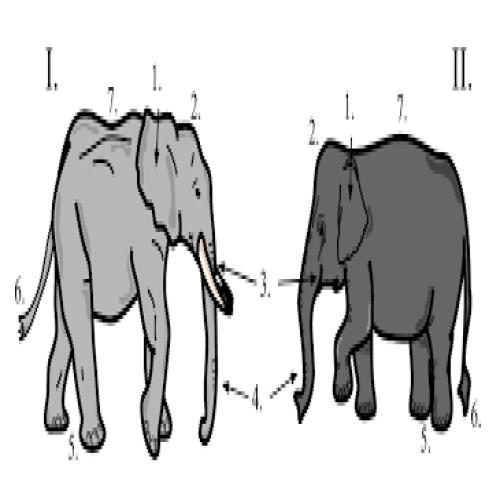asian_elephant-endangered: (18, 109, 234, 457), (293, 134, 471, 434)
